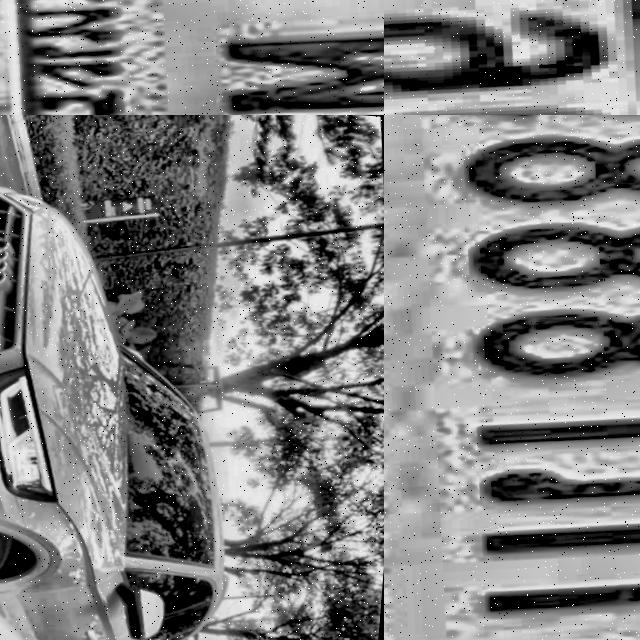license-plate: (384, 115, 640, 640), (0, 0, 384, 115), (384, 0, 640, 115)
